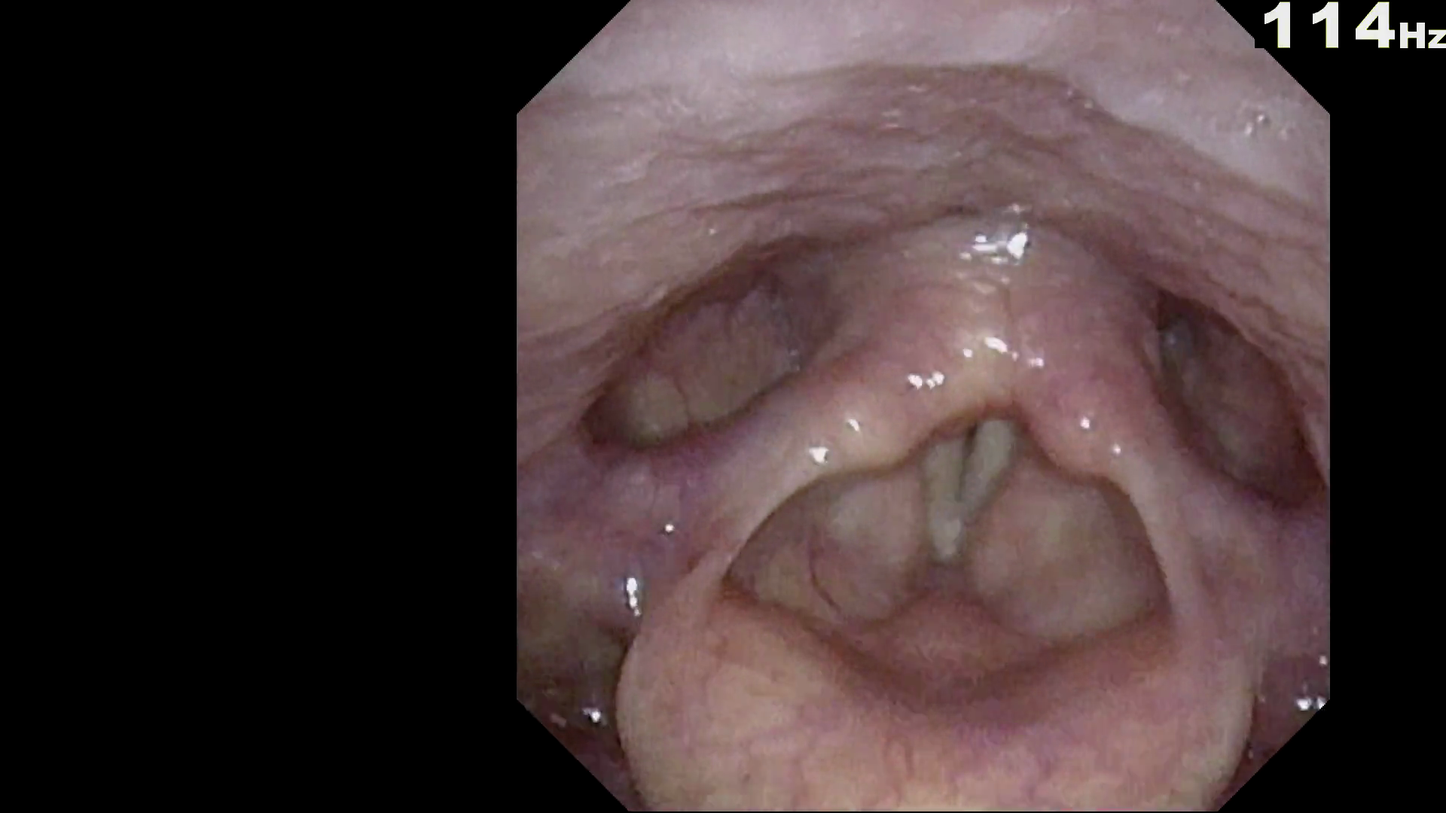epiglottis: (594, 503, 1258, 760)
trachea: (872, 358, 1051, 583)
